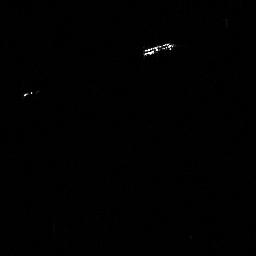ship: (142, 43, 175, 56)
